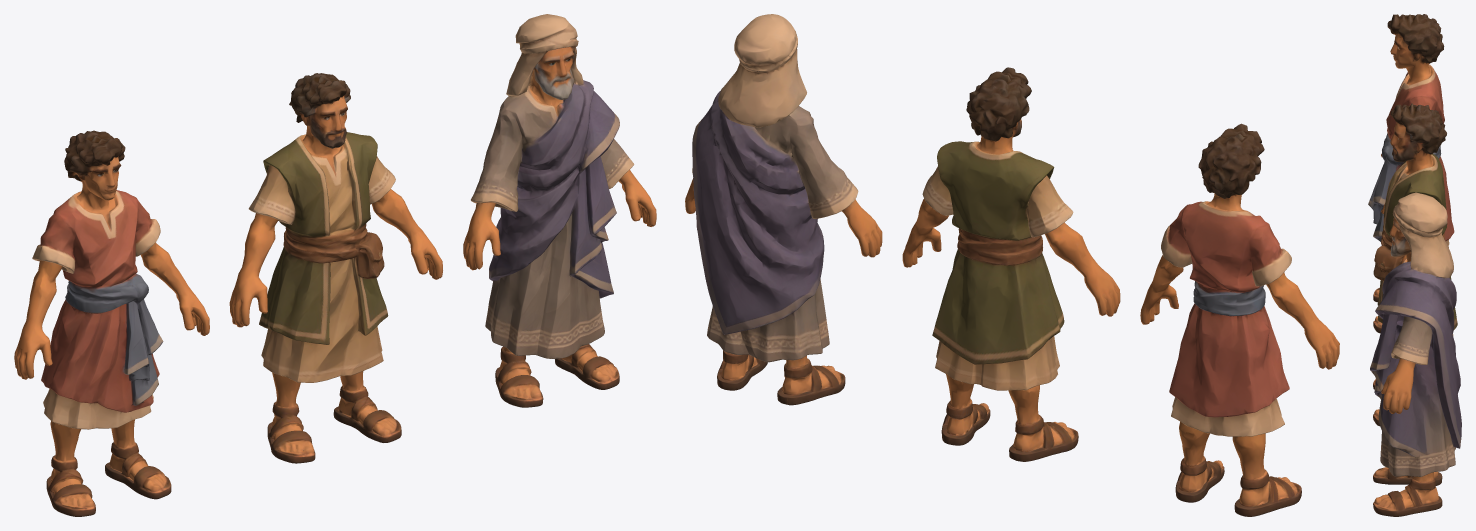
The model's file is homens_tripo.glb.
The picture shows the model from 3 angles, left to right: view 1: azimuth 30°, elevation 25°; view 2: azimuth 150°, elevation 25°; view 3: azimuth 270°, elevation 25°; orthographic projection. The views are drawn at different scales.
Parts seen in each view (by area): view 1: tripo_node_7f04bd86-1846-4ac7-93e5-d85d54eb2f8d; view 2: tripo_node_7f04bd86-1846-4ac7-93e5-d85d54eb2f8d; view 3: tripo_node_7f04bd86-1846-4ac7-93e5-d85d54eb2f8d.
Boxes of the visible parts, x1,y1,x2,y2 form: tripo_node_7f04bd86-1846-4ac7-93e5-d85d54eb2f8d: [14, 14, 656, 516]; tripo_node_7f04bd86-1846-4ac7-93e5-d85d54eb2f8d: [685, 14, 1339, 516]; tripo_node_7f04bd86-1846-4ac7-93e5-d85d54eb2f8d: [1368, 14, 1461, 516].
Size of the model in its own units: 1 by 0.545 by 0.1543.
1 material, 1 textured.
